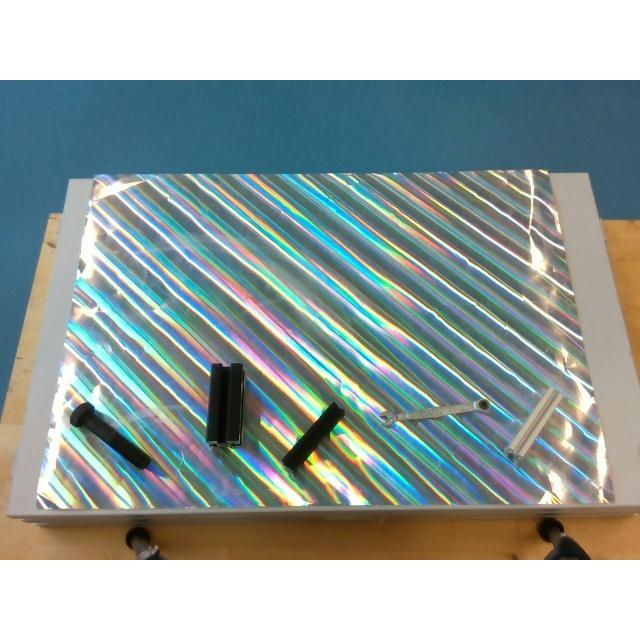F20_20_B: (280, 401, 344, 472)
F20_20_G: (506, 388, 562, 460)
M20_100: (69, 402, 151, 470)
S40_40_B: (204, 362, 243, 446)
Wrench: (378, 397, 490, 427)
